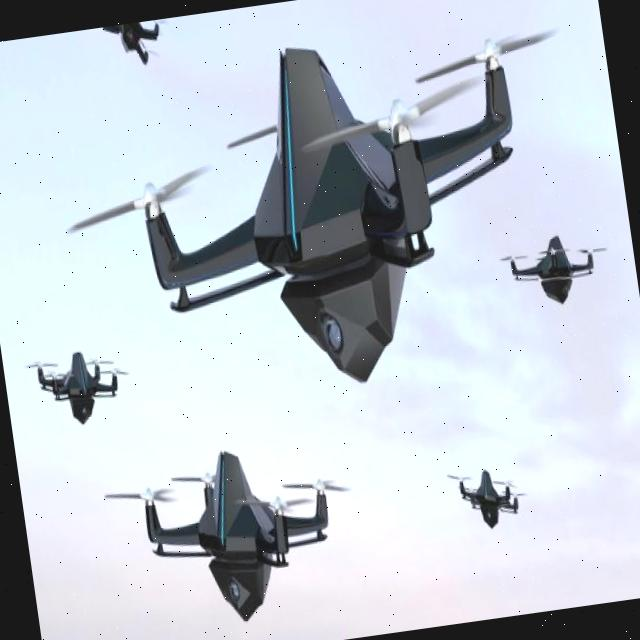drone: (54, 21, 592, 422), (106, 420, 373, 640), (20, 324, 138, 458), (498, 206, 618, 327), (444, 446, 532, 546), (94, 20, 168, 86)
